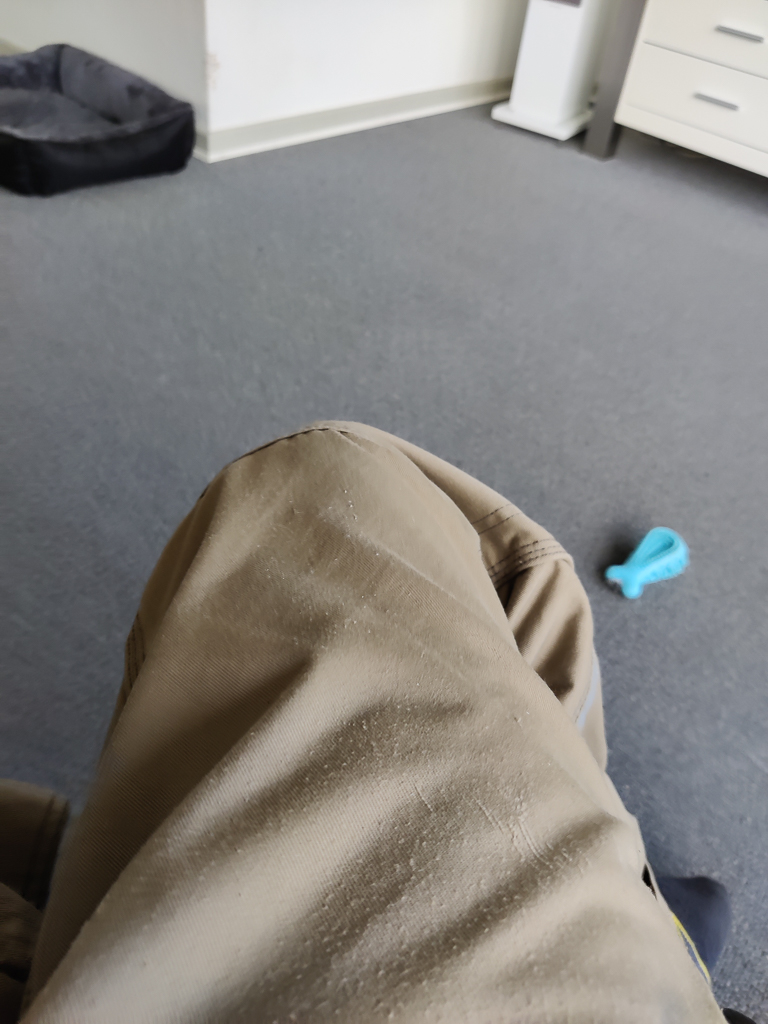Humanoid: (0, 400, 768, 1024)
